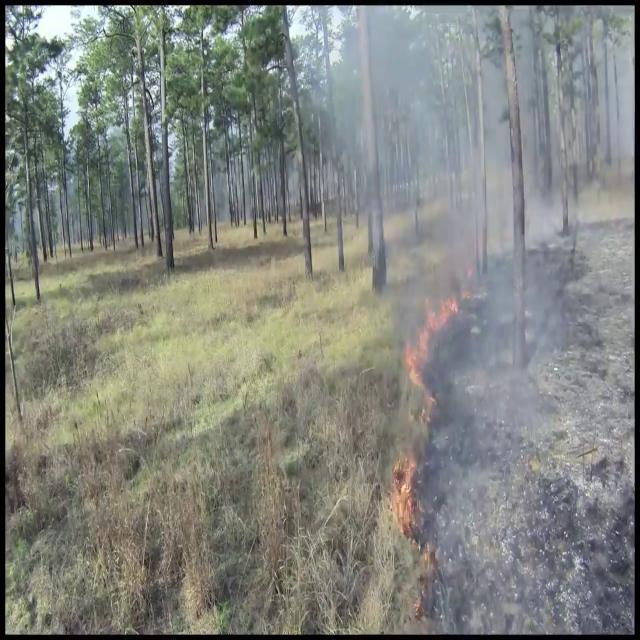Fire: (382, 302, 449, 559)
Smoke: (269, 2, 633, 460)
